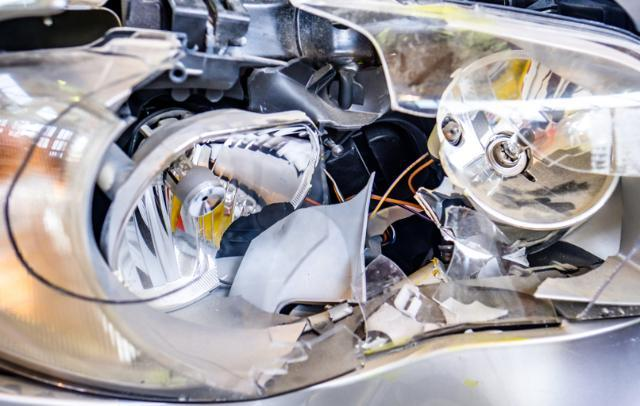Light: (2, 9, 640, 338)
